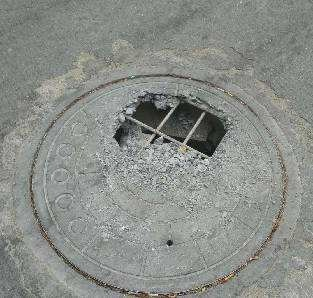well: (35, 65, 287, 293)
